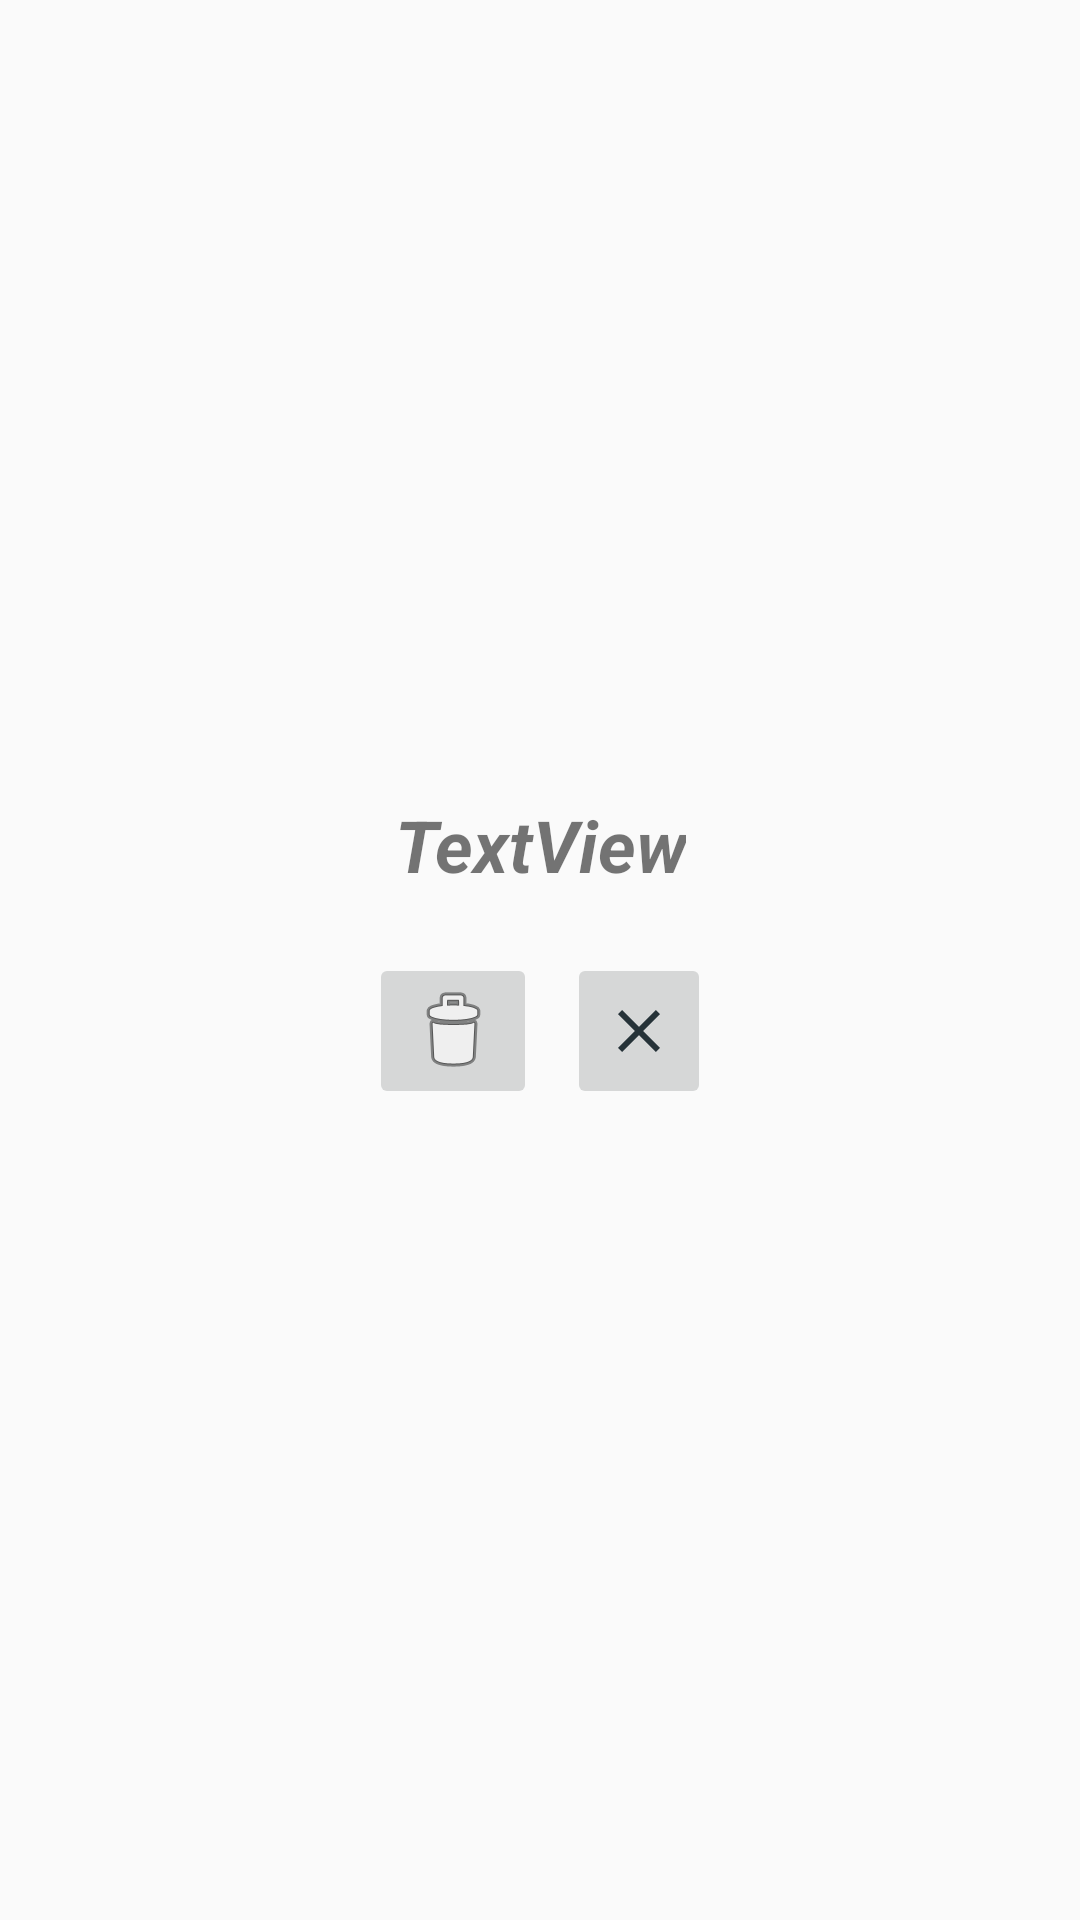

Named icons in this screenshot (1080 x 1920) and their centers, [x,y]:
close: [639,1031]
delete: [453,1031]
